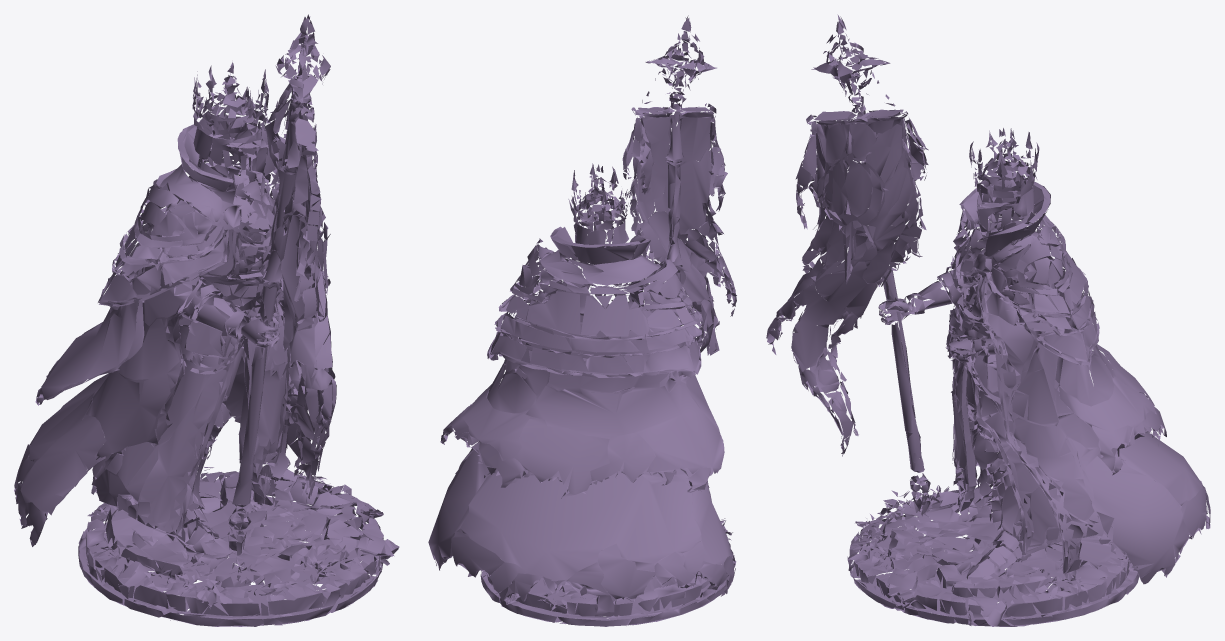
Rendered from dawnless-crown.glb.
The picture shows the model from 3 angles, left to right: view 1: azimuth 30°, elevation 25°; view 2: azimuth 150°, elevation 25°; view 3: azimuth 270°, elevation 25°; orthographic projection. The views are drawn at different scales.
Parts seen in each view (by area): view 1: model; view 2: model; view 3: model.
Part boxes in pixels (bbox=[...]): model: bbox=[14, 14, 399, 626]; model: bbox=[428, 15, 736, 626]; model: bbox=[766, 14, 1210, 626].
Bounding box in the file's own units: 1.04 × 1.88 × 1.37.
